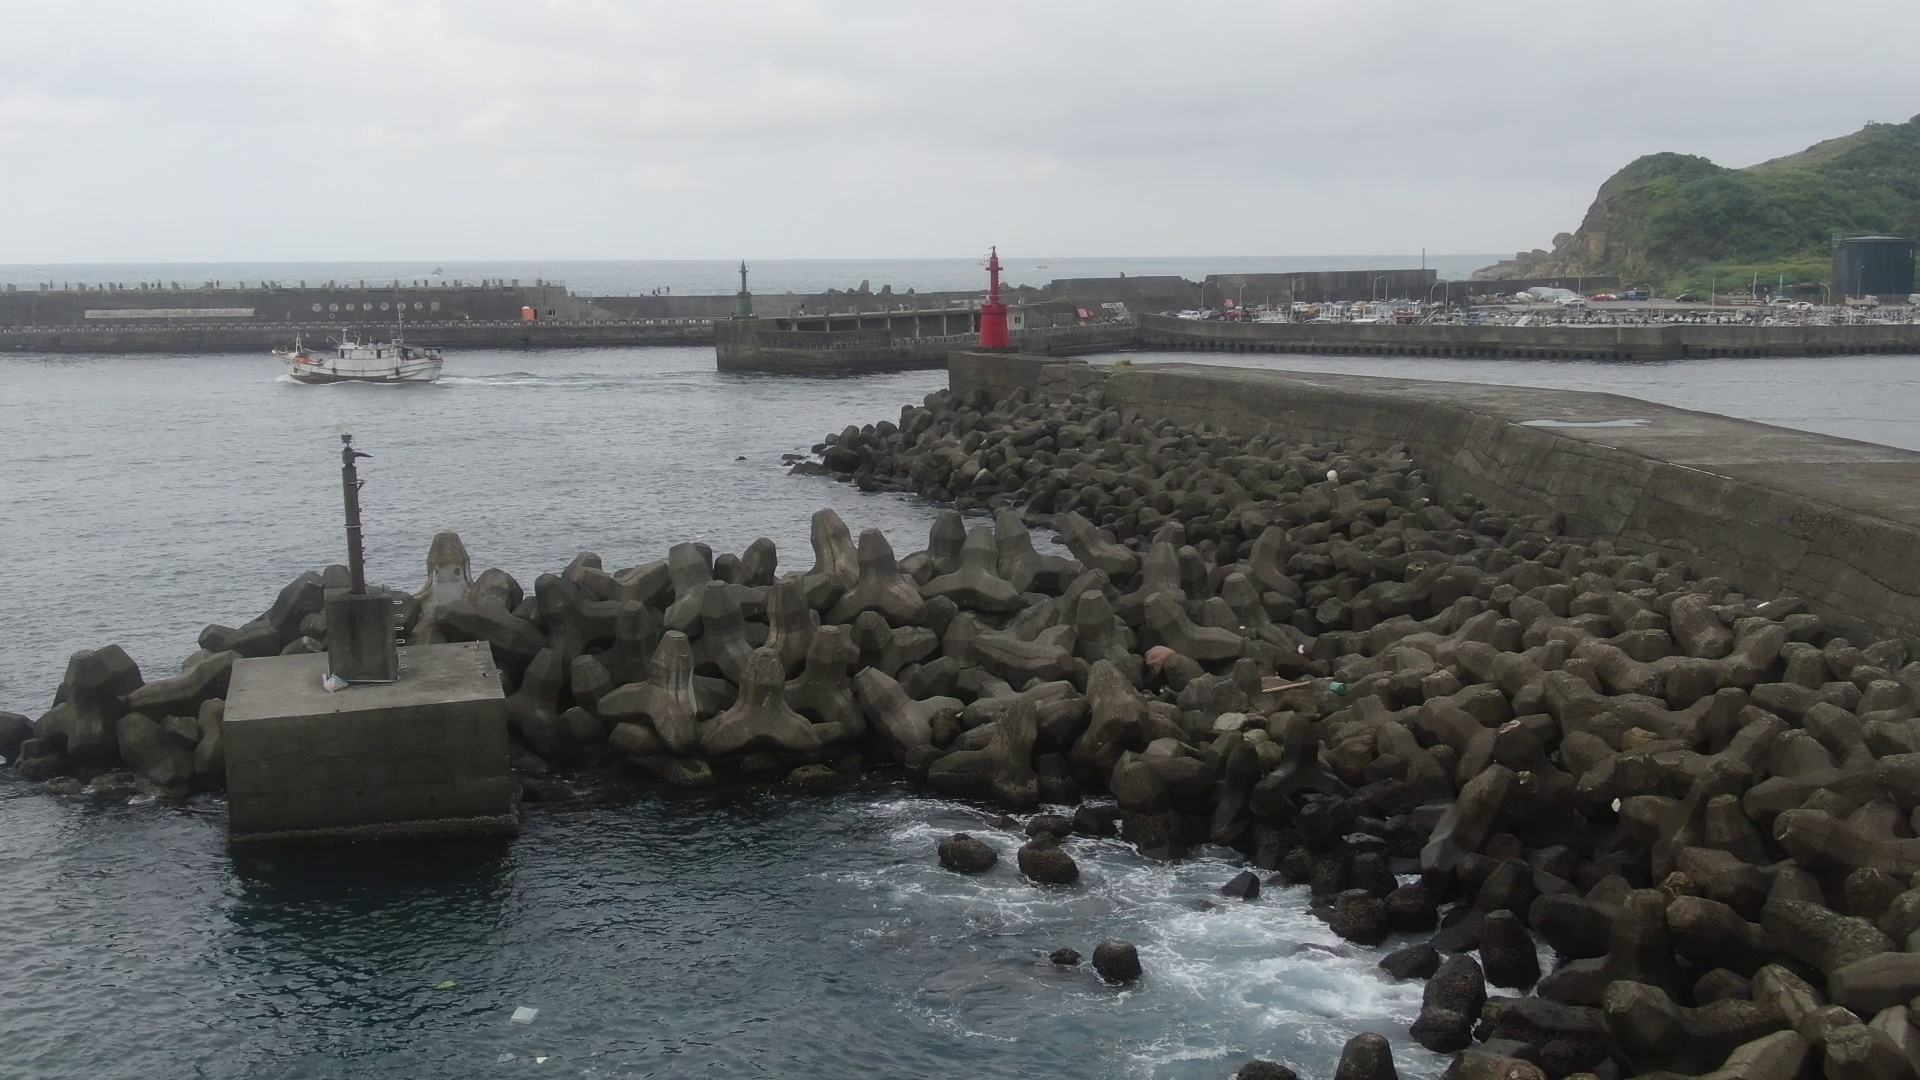garbage: (498, 996, 556, 1068), (1259, 669, 1331, 698), (320, 670, 348, 694)
